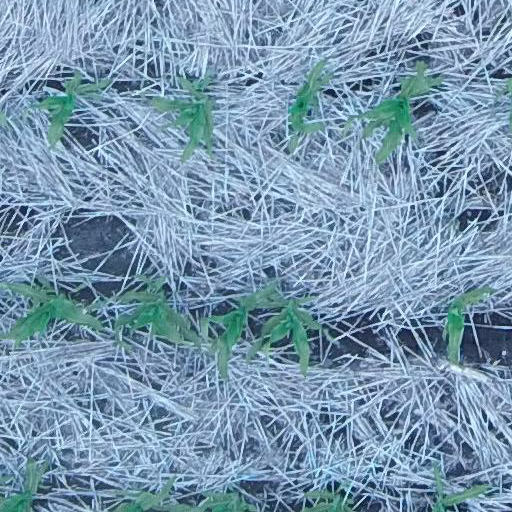planta: (344, 58, 447, 167), (198, 277, 289, 380), (109, 272, 202, 352), (244, 293, 322, 374), (144, 75, 218, 160), (32, 70, 112, 145), (286, 59, 335, 152), (442, 284, 498, 365), (107, 478, 189, 511), (432, 467, 488, 511), (185, 493, 256, 511), (303, 488, 352, 511)
